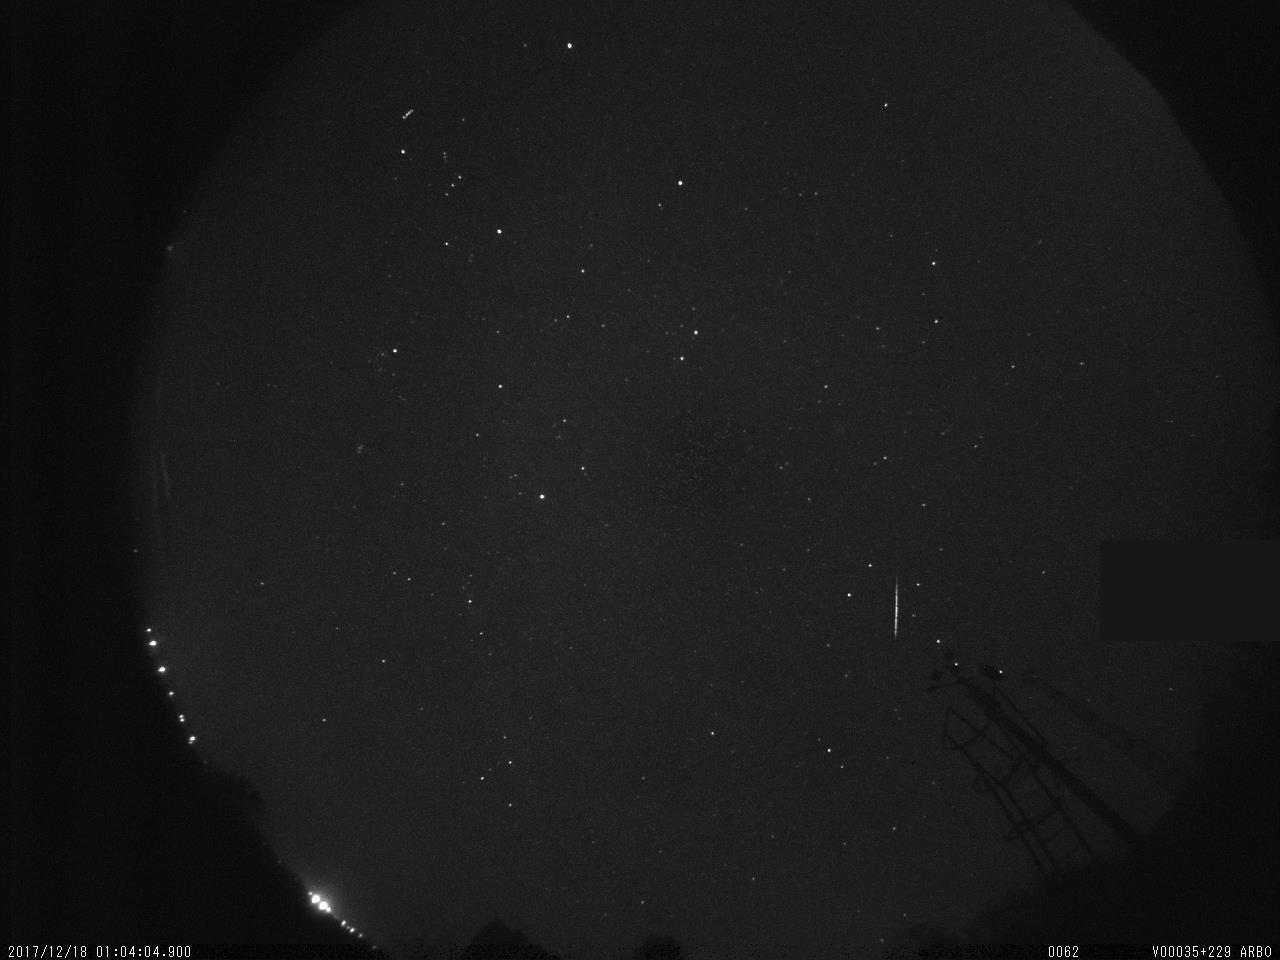meteor: (880, 569, 920, 646)
